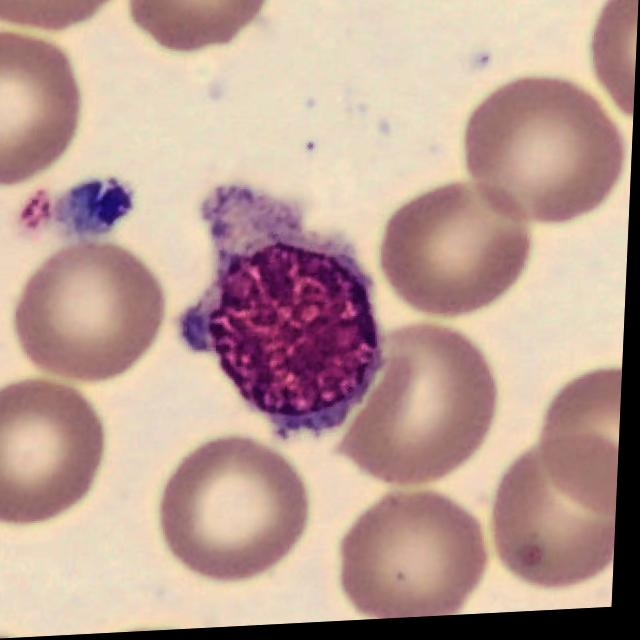Linfocito: (189, 192, 381, 437)
